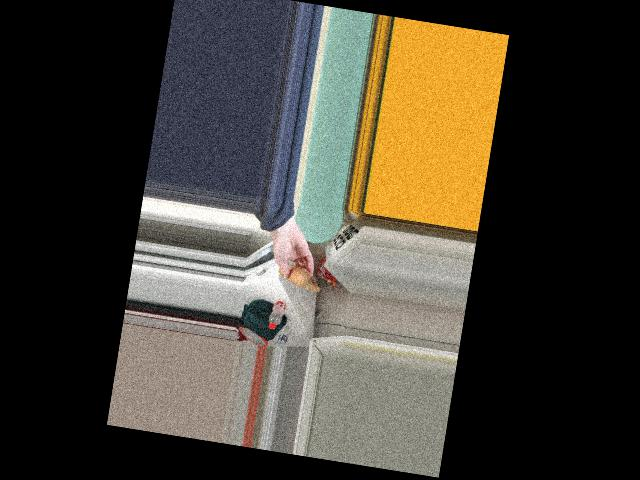sweet_potato: (281, 264, 311, 287)
